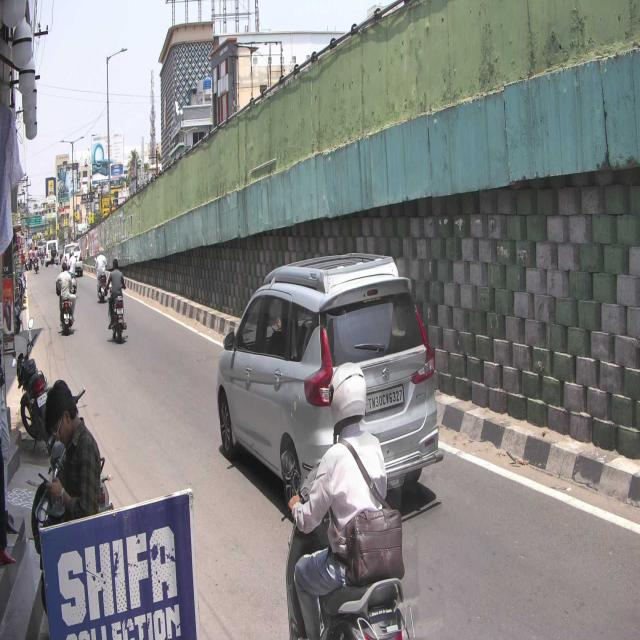single_rider: (277, 359, 417, 640)
